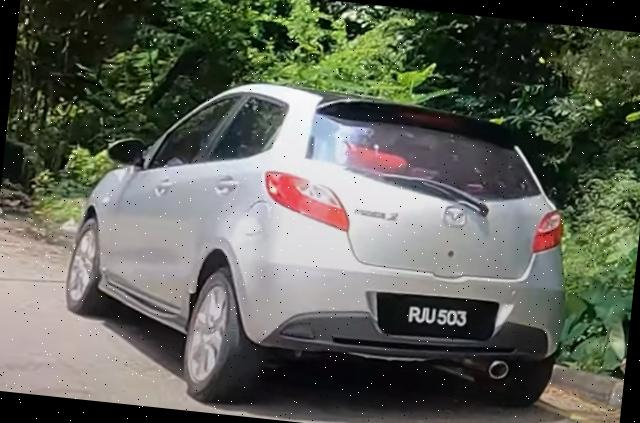License_Plate: (371, 287, 500, 346)
car: (55, 63, 587, 423)
